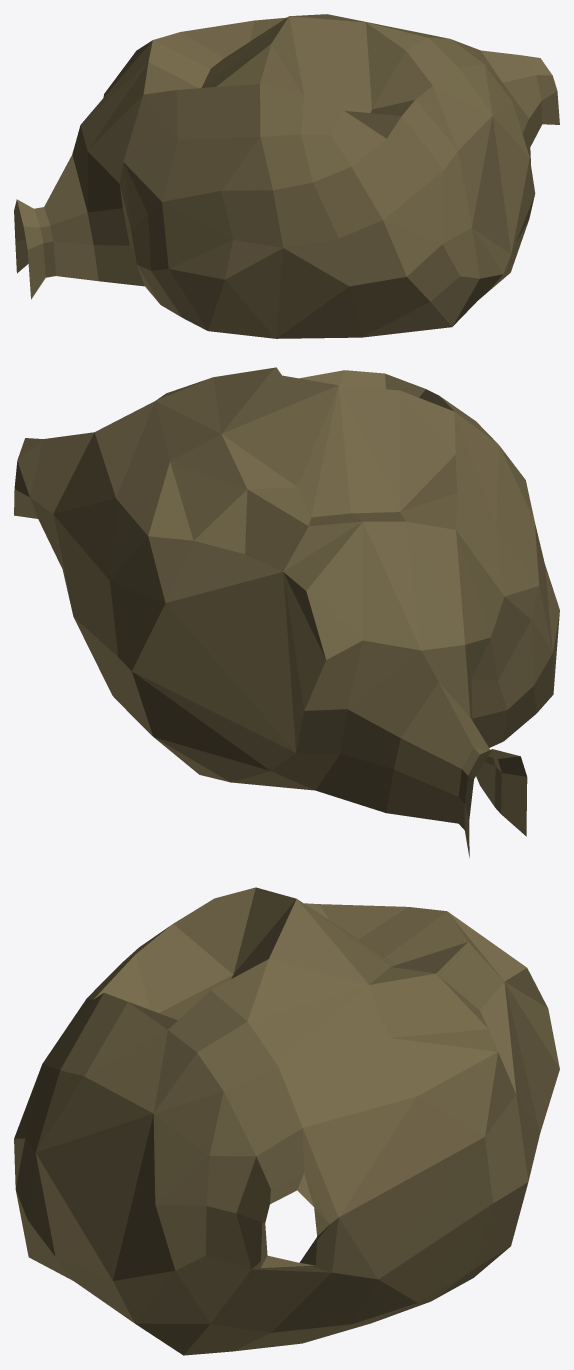
Rendered from Dome-2exits-02.fbx.
3 views of the same model, one above another, from view 1: azimuth 30°, elevation 25°; view 2: azimuth 150°, elevation 25°; view 3: azimuth 270°, elevation 25° (orthographic). The views are drawn at different scales.
Visible parts, largest first — view 1: Dome-2exits-02; view 2: Dome-2exits-02; view 3: Dome-2exits-02.
Part boxes in pixels (x1=…): Dome-2exits-02: x1=14, y1=14, x2=559, y2=338; Dome-2exits-02: x1=14, y1=367, x2=559, y2=857; Dome-2exits-02: x1=14, y1=887, x2=559, y2=1355.
Bounding box in the file's own units: 1746 × 2205 × 1268.
